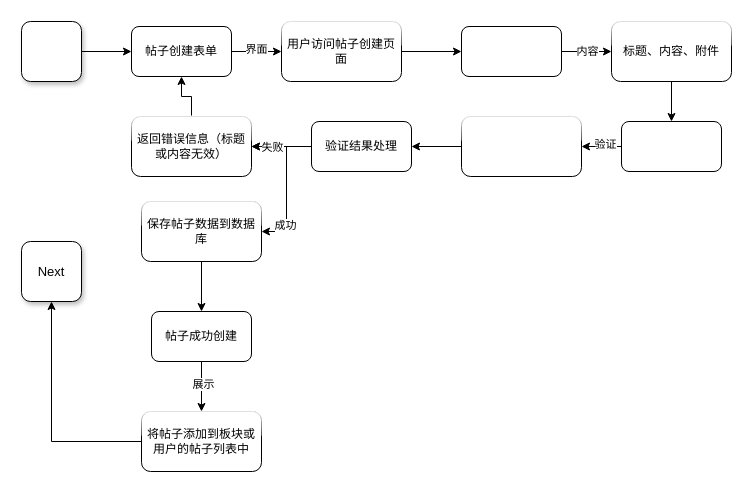
Image size: 749x489. Some labels were removed from this diagram. Each missing label, with the centre of its shape:
"信息验证" belongs at (671,146).
"提交帖子信息" belongs at (511,51).
"检查标题和内容是否为空" belongs at (521,146).
"登录成功" belongs at (52,52).
